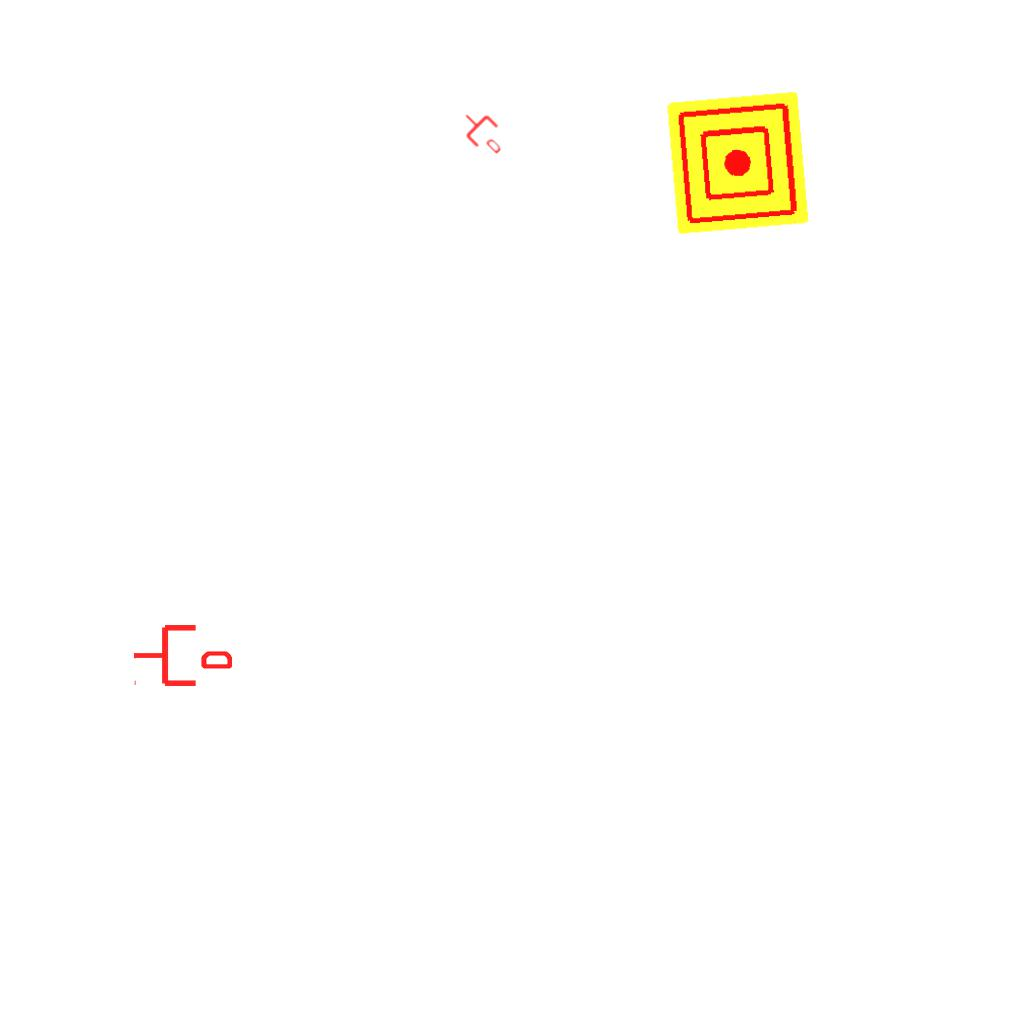Datenanschluss_einfach: (132, 621, 232, 690), (453, 102, 513, 162)
NAM-Nichtautomatischer_Melder: (666, 91, 810, 235)
